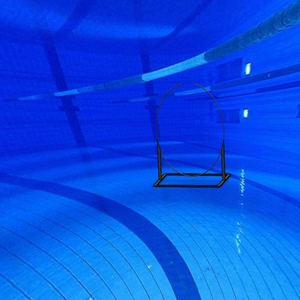circle: (152, 82, 232, 190)
